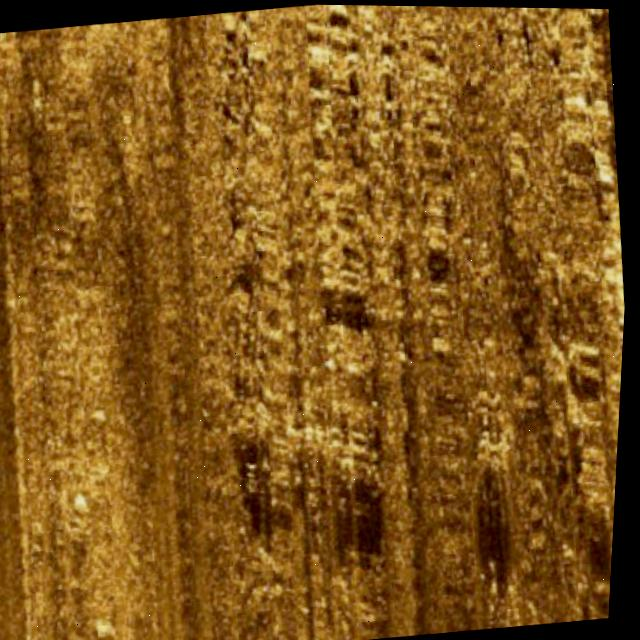bedrock group: (182, 2, 640, 640)
